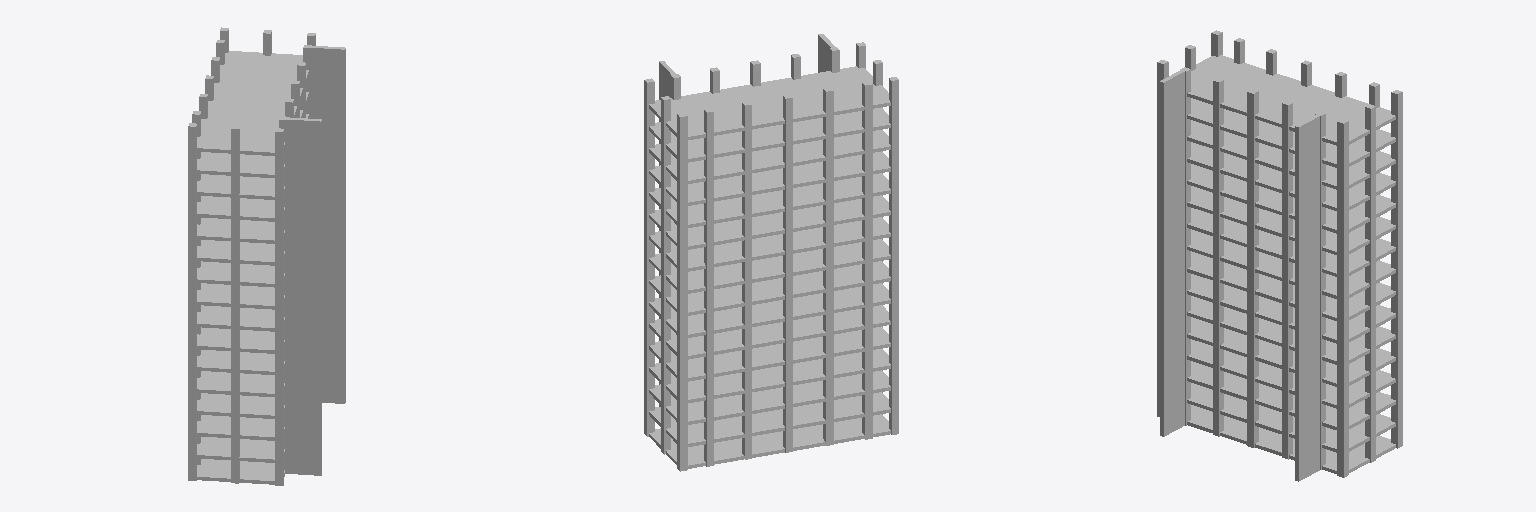
File: small fangzi.obj
The picture shows the model from 3 angles: view 1: azimuth 30°, elevation 25°; view 2: azimuth 150°, elevation 25°; view 3: azimuth 270°, elevation 25°; orthographic projection.
Parts seen in each view (by area): view 1: syrplant group1; view 2: syrplant group1; view 3: syrplant group1.
Part boxes in pixels (bbox=[...]): syrplant group1: bbox=[188, 27, 345, 485]; syrplant group1: bbox=[644, 34, 898, 471]; syrplant group1: bbox=[1157, 30, 1402, 481].
Bounding box in the file's own units: 333 × 567 × 356.